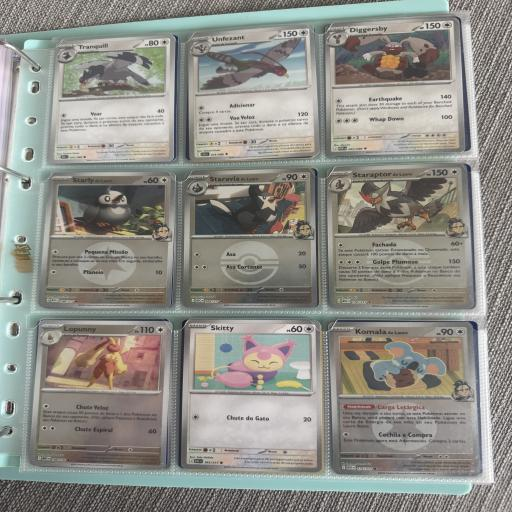card: (327, 315, 481, 482), (325, 162, 474, 315), (180, 317, 326, 472), (29, 317, 173, 470), (319, 17, 467, 160), (179, 24, 325, 167), (183, 167, 317, 308), (39, 171, 176, 308), (48, 35, 176, 164)
